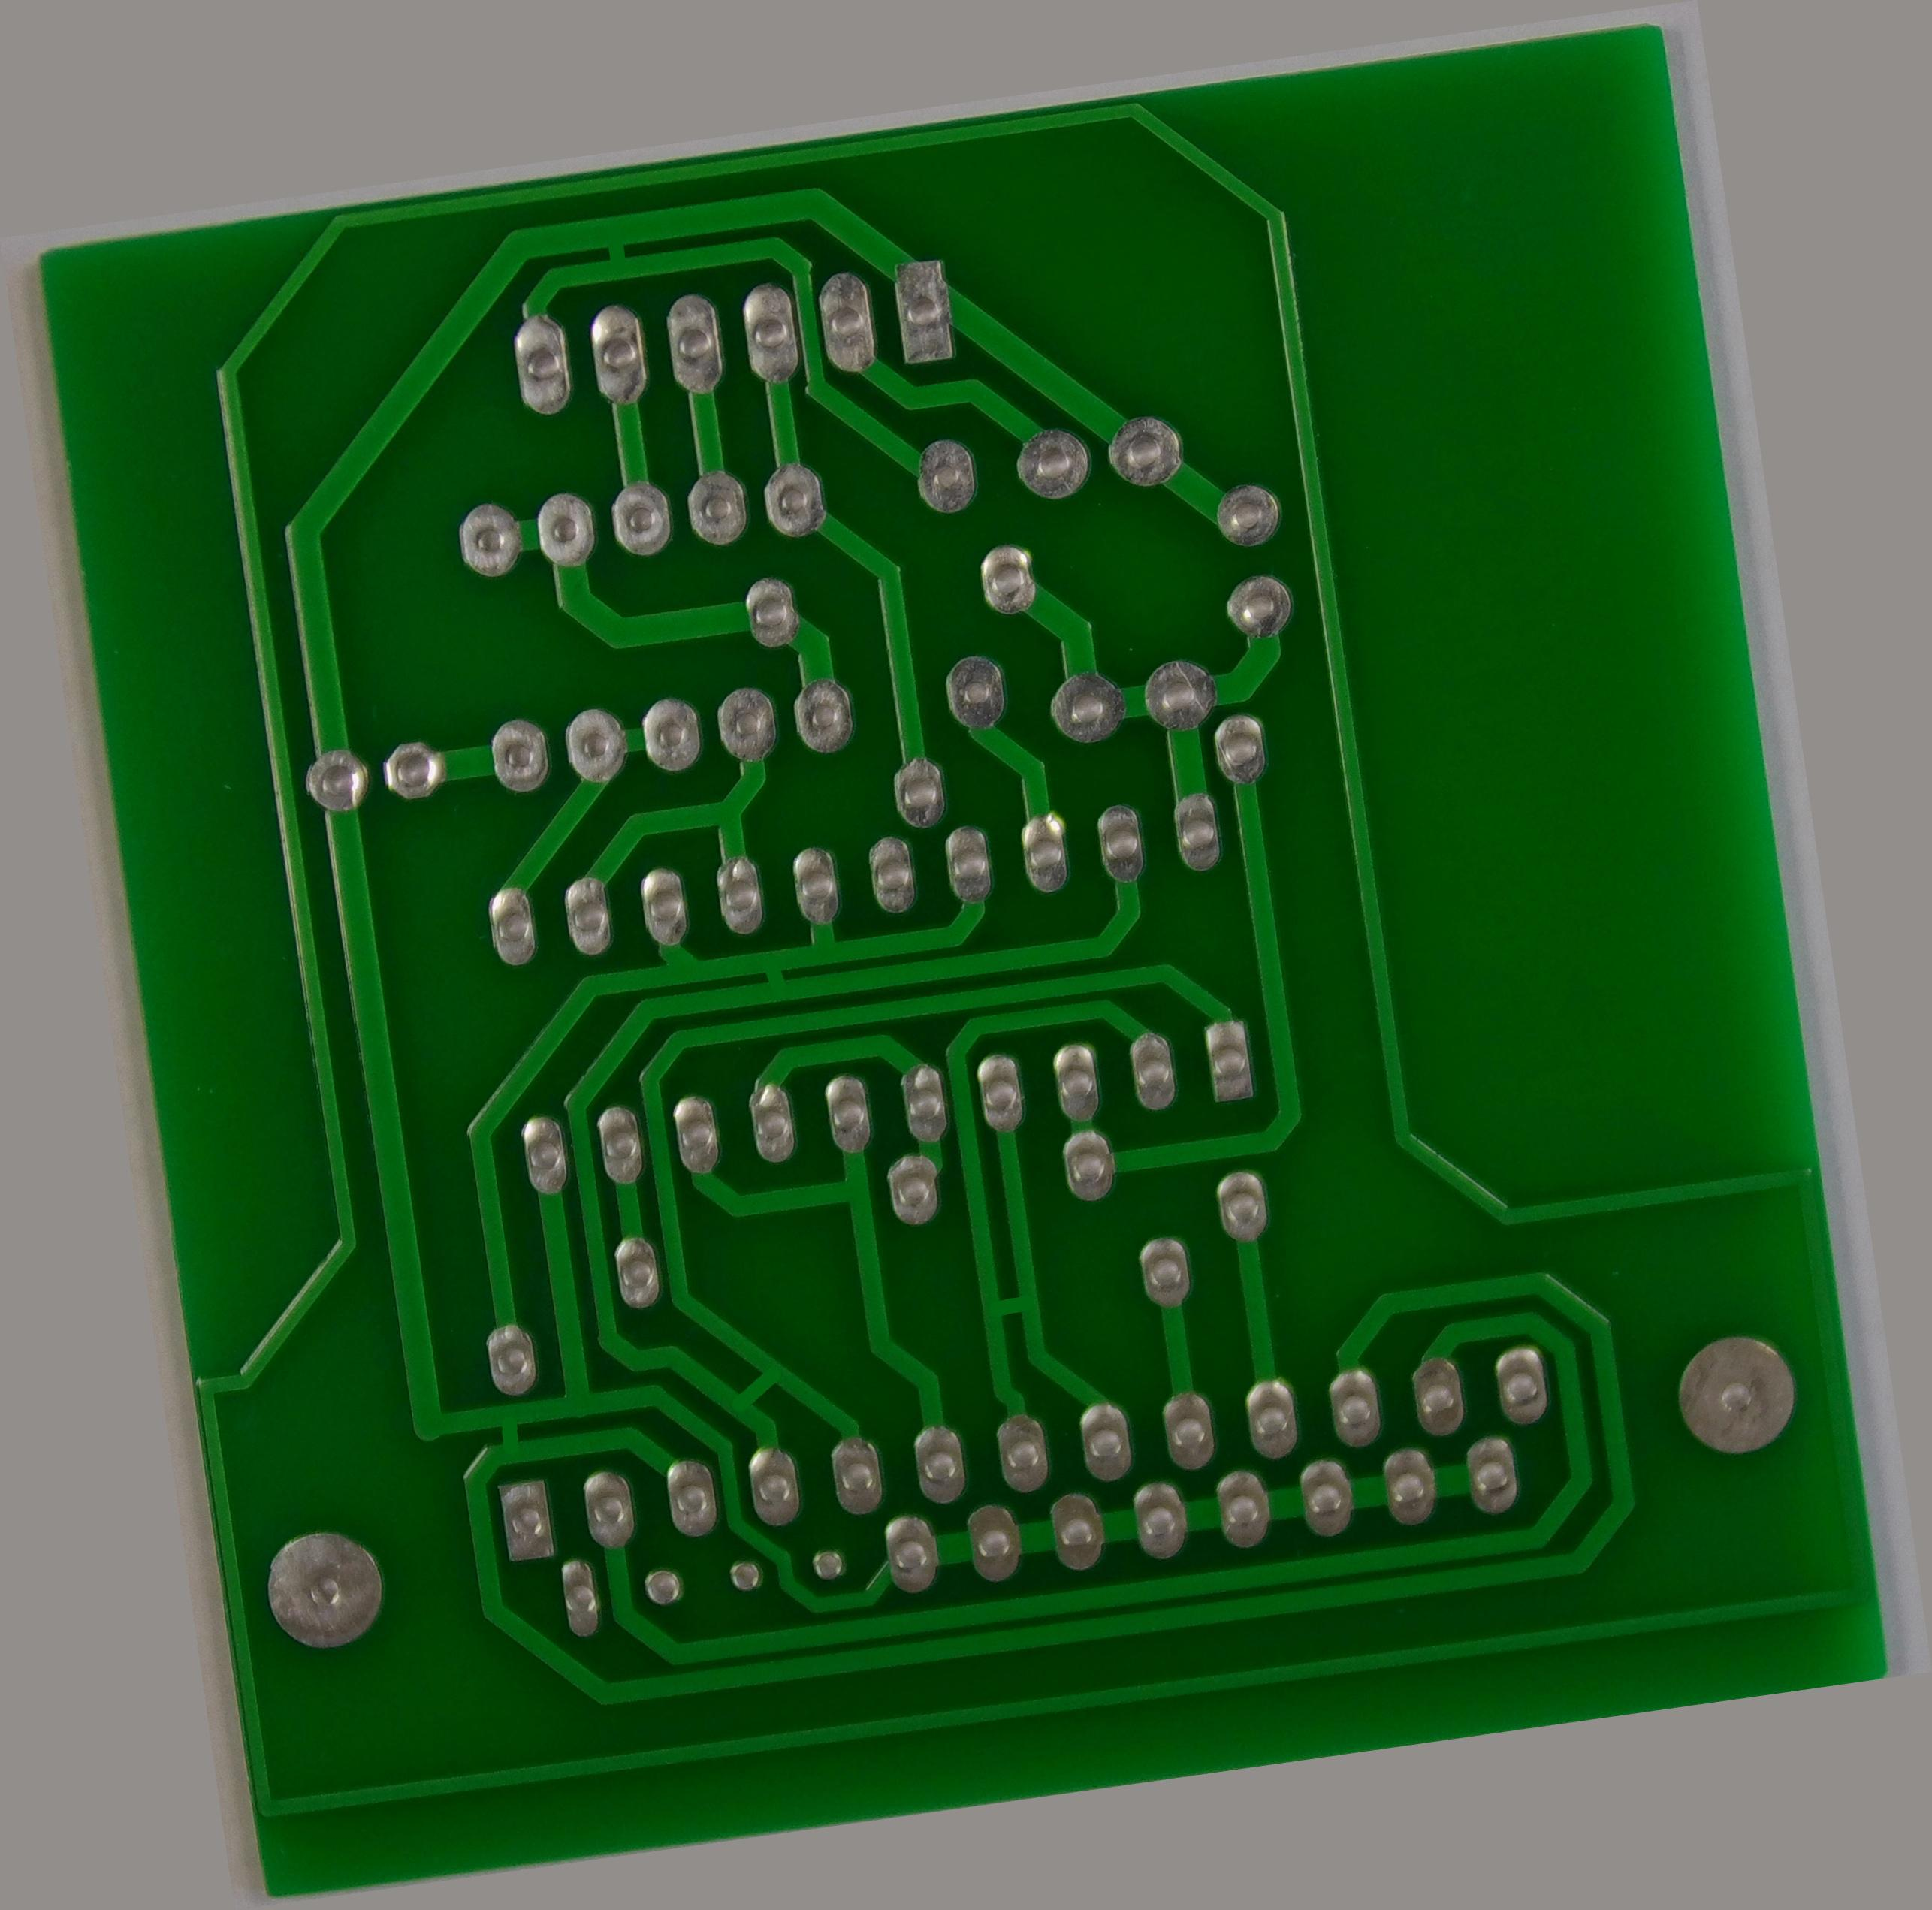short: (702, 1350, 807, 1422), (574, 199, 649, 297), (467, 1392, 546, 1476), (969, 1280, 1048, 1340), (742, 941, 800, 1006)
